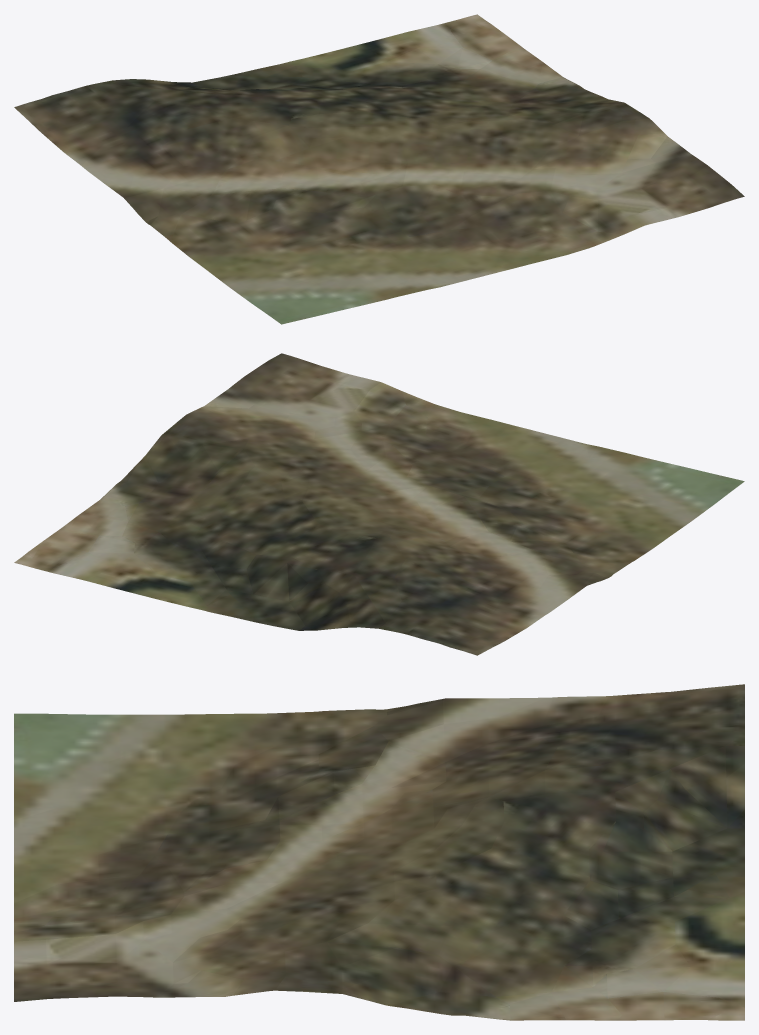
The picture shows the model from 3 angles, top to bottom: view 1: azimuth 30°, elevation 25°; view 2: azimuth 150°, elevation 25°; view 3: azimuth 270°, elevation 25°; orthographic projection. The views are drawn at different scales.
Size of the model in its own units: 52.22 by 3.28 by 52.22.
Materials: 2 (2 with a texture image).
